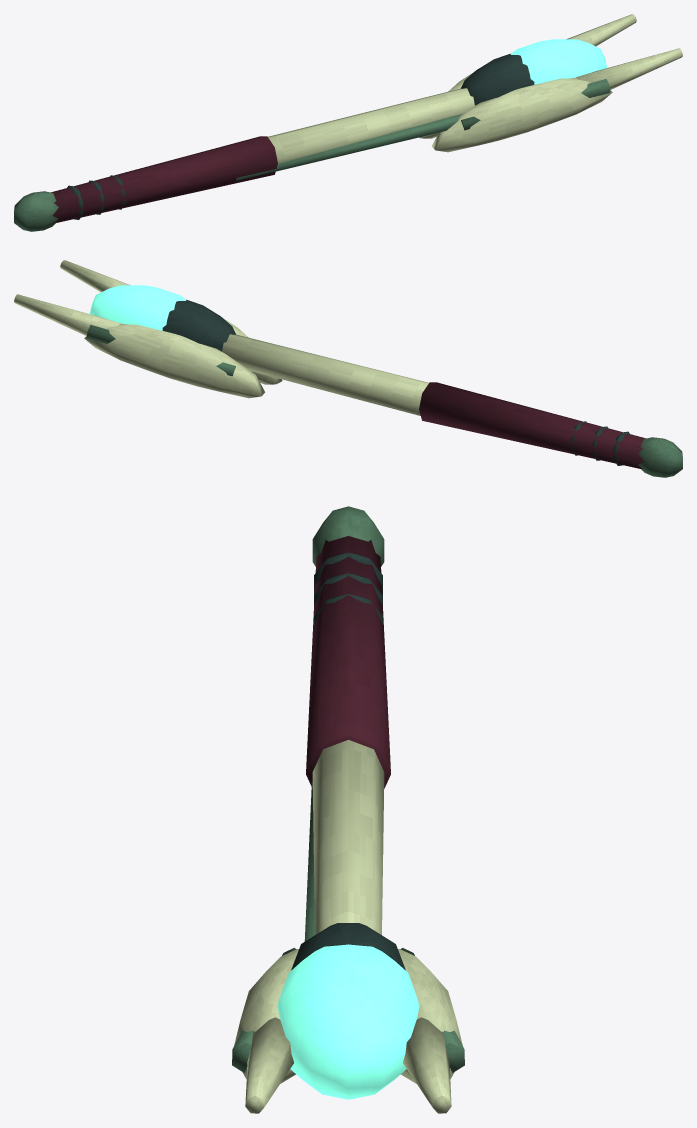
The model's file is moth-weapon.glb.
3 renders of one model, top to bottom at view 1: azimuth 30°, elevation 25°; view 2: azimuth 150°, elevation 25°; view 3: azimuth 270°, elevation 25°, orthographic. The views are drawn at different scales.
Parts seen in each view (by area): view 1: tendon grip, folded kite plate, enamel shaft, staff floating core, pulse socket, shaft tendon, prong, heel plate, prong.001, membrane seam; view 2: tendon grip, enamel shaft, folded kite plate.001, staff floating core, pulse socket, prong.001, heel plate, prong, membrane seam.001; view 3: staff floating core, tendon grip, enamel shaft, prong, prong.001, folded kite plate.001, folded kite plate, heel plate, pulse socket, shaft tendon.
Part boxes in pixels (bbox=[...]): tendon grip: bbox=[50, 136, 277, 223]; folded kite plate: bbox=[431, 77, 612, 152]; enamel shaft: bbox=[268, 88, 474, 163]; staff floating core: bbox=[510, 39, 606, 84]; pulse socket: bbox=[461, 53, 534, 105]; shaft tendon: bbox=[236, 114, 461, 180]; prong: bbox=[576, 48, 682, 89]; heel plate: bbox=[14, 191, 58, 231]; prong.001: bbox=[566, 14, 636, 46]; membrane seam: bbox=[461, 79, 610, 130]; tendon grip: bbox=[419, 382, 646, 469]; enamel shaft: bbox=[222, 334, 428, 415]; folded kite plate.001: bbox=[84, 323, 265, 398]; staff floating core: bbox=[90, 285, 186, 330]; pulse socket: bbox=[162, 299, 235, 351]; prong.001: bbox=[14, 294, 120, 335]; heel plate: bbox=[638, 437, 682, 477]; prong: bbox=[60, 260, 130, 292]; membrane seam.001: bbox=[86, 325, 235, 376]; staff floating core: bbox=[277, 944, 419, 1099]; tendon grip: bbox=[306, 536, 390, 788]; enamel shaft: bbox=[312, 740, 384, 934]; prong: bbox=[245, 1017, 293, 1113]; prong.001: bbox=[403, 1017, 451, 1113]; folded kite plate.001: bbox=[398, 949, 462, 1083]; folded kite plate: bbox=[234, 949, 298, 1083]; heel plate: bbox=[312, 506, 384, 566]; pulse socket: bbox=[291, 923, 405, 970]; shaft tendon: bbox=[304, 782, 314, 941].
Bounding box in the file's own units: 2.13 × 0.2289 × 0.3335.
Materials: 5 (5 with a texture image).
